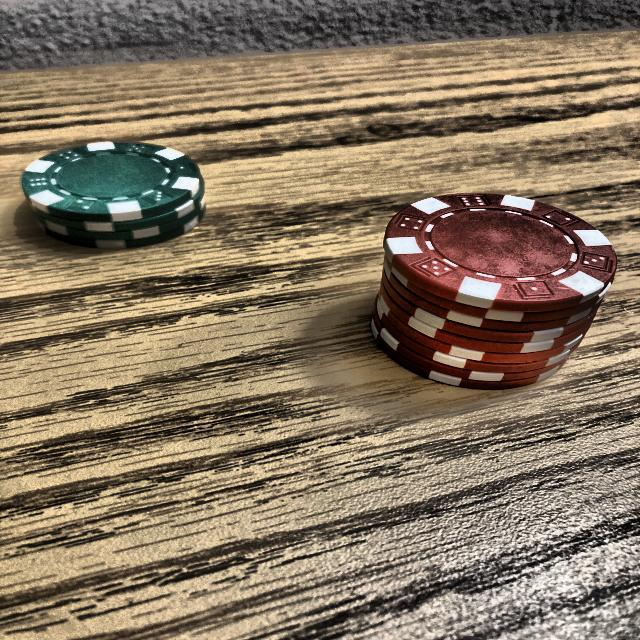Chip: (362, 163, 620, 423), (17, 114, 224, 282)
